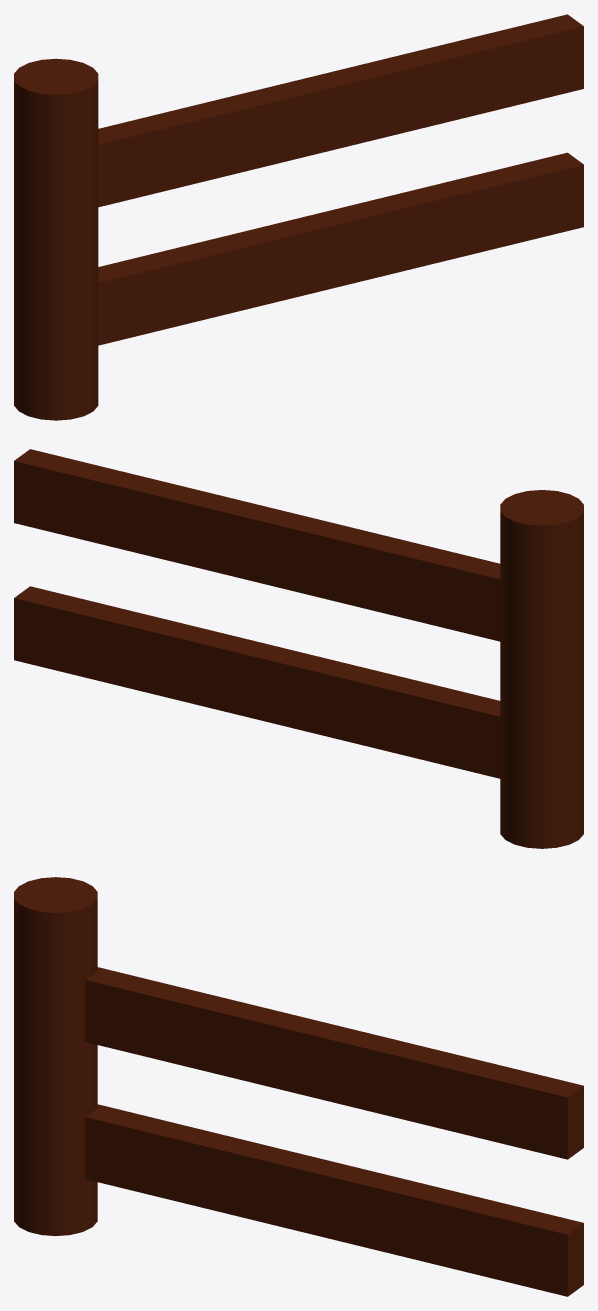
Rendered from Fence module 1.fbx.
The picture shows the model from 3 angles, top to bottom: view 1: azimuth 30°, elevation 25°; view 2: azimuth 150°, elevation 25°; view 3: azimuth 330°, elevation 25°; orthographic projection.
Visible parts, largest first — view 1: Box001, Box002, Cylinder005; view 2: Box001, Box002, Cylinder005; view 3: Box001, Box002, Cylinder005.
Boxes of the visible parts, x1,y1,x2,y2 form: Box001: [98, 152, 583, 345]; Box002: [98, 14, 583, 207]; Cylinder005: [14, 58, 98, 420]; Box001: [14, 586, 500, 778]; Box002: [14, 449, 500, 641]; Cylinder005: [500, 490, 583, 848]; Box001: [85, 1104, 583, 1296]; Box002: [85, 967, 583, 1159]; Cylinder005: [14, 877, 97, 1235].
Size of the model in its own units: 15.7 by 8.74 by 2.05.
